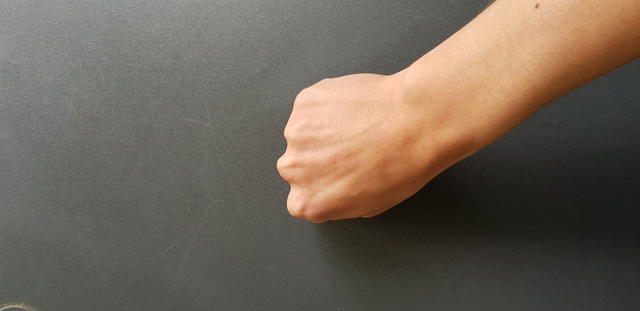Rock: (257, 67, 452, 236)
